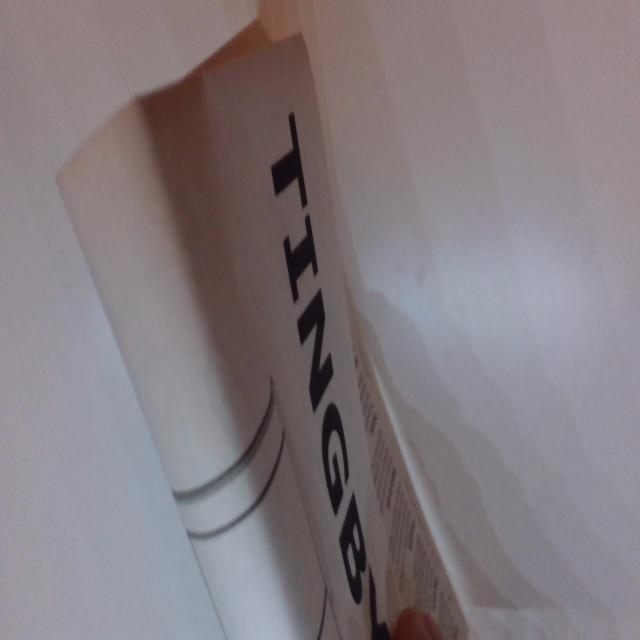Paper: (58, 0, 476, 640)
